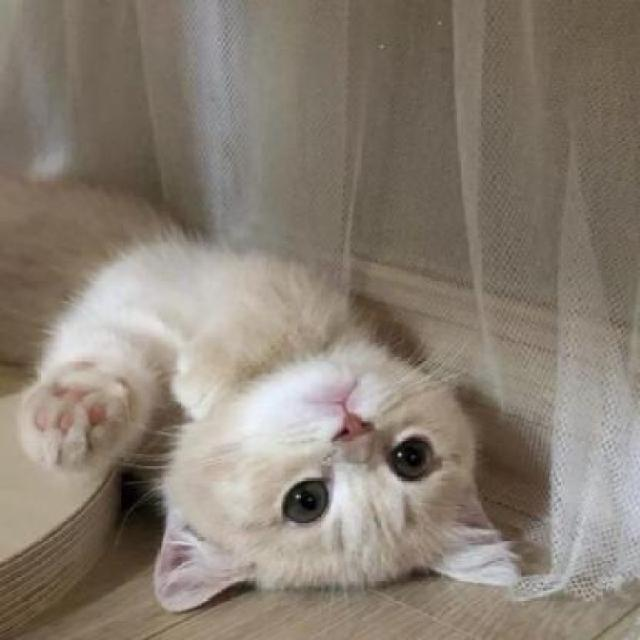cat: (9, 238, 514, 612)
